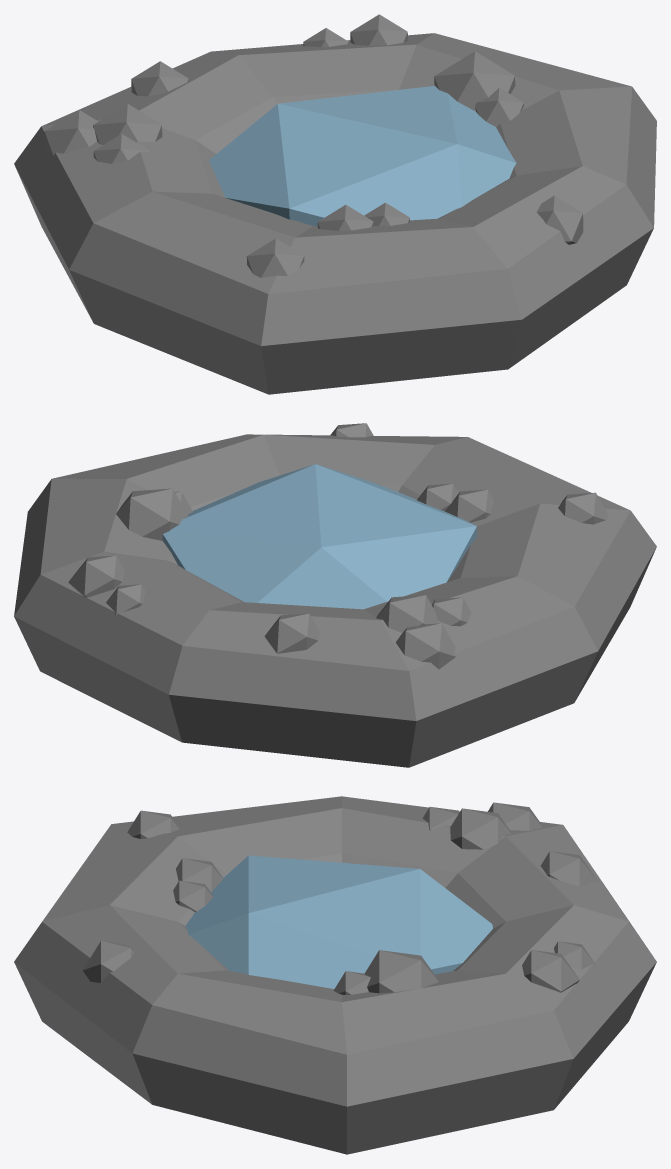
File: power_core.fbx
3 views of the same model, one above another, from view 1: azimuth 30°, elevation 25°; view 2: azimuth 150°, elevation 25°; view 3: azimuth 270°, elevation 25° (orthographic). The views are drawn at different scales.
Parts seen in each view (by area): view 1: core; view 2: core; view 3: core.
Part boxes in pixels (x1,y1,x2,y2): core: [14, 14, 656, 394]; core: [14, 423, 656, 767]; core: [14, 796, 656, 1154].
Bounding box in the file's own units: 0.191 × 0.0451 × 0.1822.
